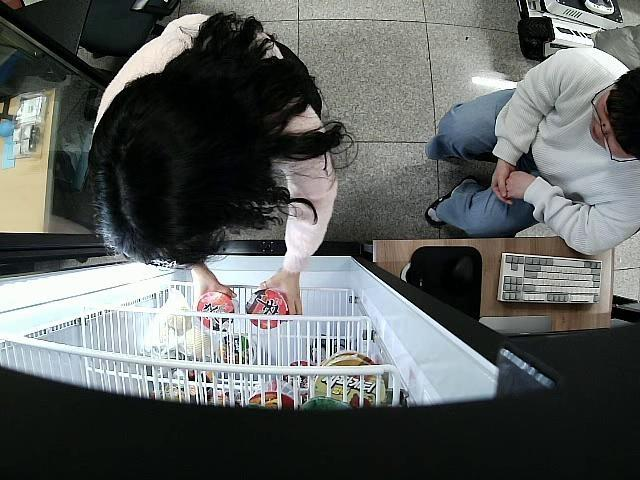02_shinRamen_S: (196, 292, 237, 331), (245, 292, 288, 329)
